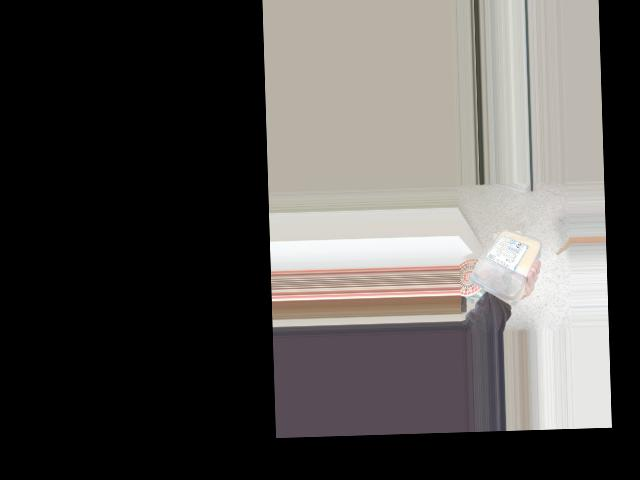cheese: (469, 226, 533, 297)
